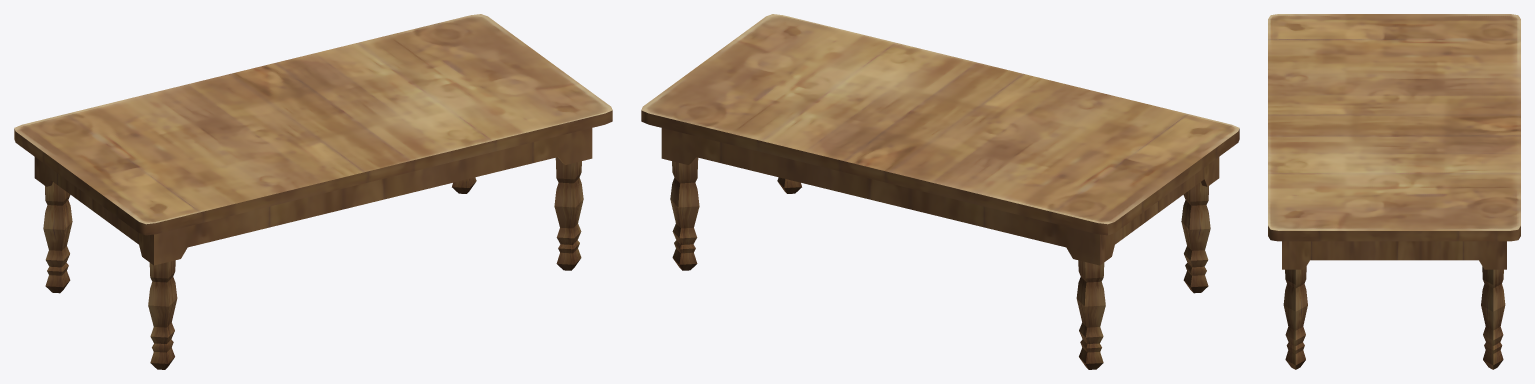
Rendered from CountryDiningTable_HD.fbx.
3 views of the same model, side by side, from view 1: azimuth 30°, elevation 25°; view 2: azimuth 150°, elevation 25°; view 3: azimuth 270°, elevation 25° (orthographic). The views are drawn at different scales.
Parts seen in each view (by area): view 1: CountryDiningTable; view 2: CountryDiningTable; view 3: CountryDiningTable.
Part boxes in pixels (x1=…): CountryDiningTable: x1=14, y1=14, x2=612, y2=369; CountryDiningTable: x1=641, y1=14, x2=1239, y2=369; CountryDiningTable: x1=1268, y1=14, x2=1520, y2=369.
Size of the model in its own units: 1.85 by 0.6048 by 0.914.
